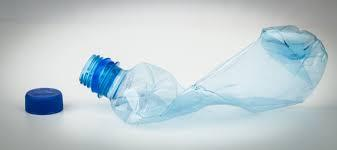plastic: (89, 35, 333, 125)
